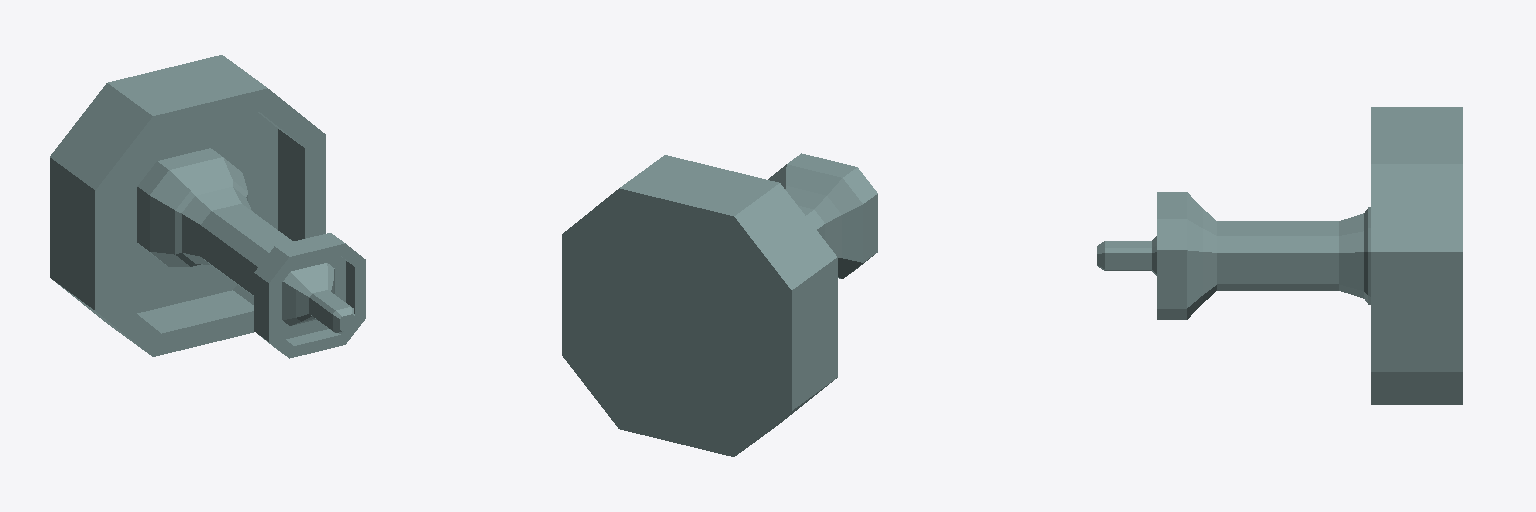
Rendered from fountain.obj.
The picture shows the model from 3 angles: view 1: azimuth 30°, elevation 25°; view 2: azimuth 150°, elevation 25°; view 3: azimuth 270°, elevation 25°; orthographic projection.
Visible parts, largest first — view 1: Cube; view 2: Cube; view 3: Cube.
Part boxes in pixels (x1,y1,x2,y2): Cube: (50, 55, 365, 358); Cube: (562, 153, 877, 456); Cube: (1097, 107, 1462, 404).
Bounding box in the file's own units: 4 × 4 × 5.5.